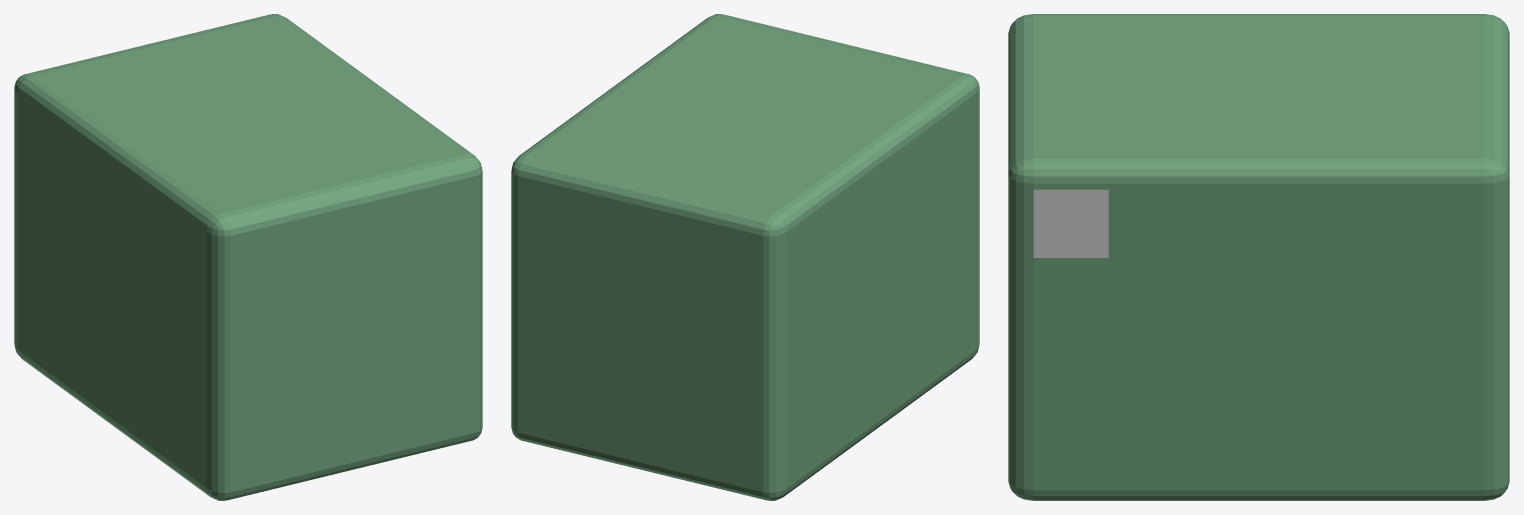
The model's file is FState.dae.
3 views of the same model, side by side, from view 1: azimuth 30°, elevation 25°; view 2: azimuth 150°, elevation 25°; view 3: azimuth 270°, elevation 25° (orthographic). The views are drawn at different scales.
Parts seen in each view (by area): view 1: Cube; view 2: Cube; view 3: Cube, Plane.
Part boxes in pixels (bbox=[...]): Cube: bbox=[14, 14, 482, 500]; Cube: bbox=[511, 14, 979, 500]; Cube: bbox=[1008, 14, 1509, 500]; Plane: bbox=[1033, 189, 1108, 257].
Bounding box in the file's own units: 1.5 × 2 × 1.5.
